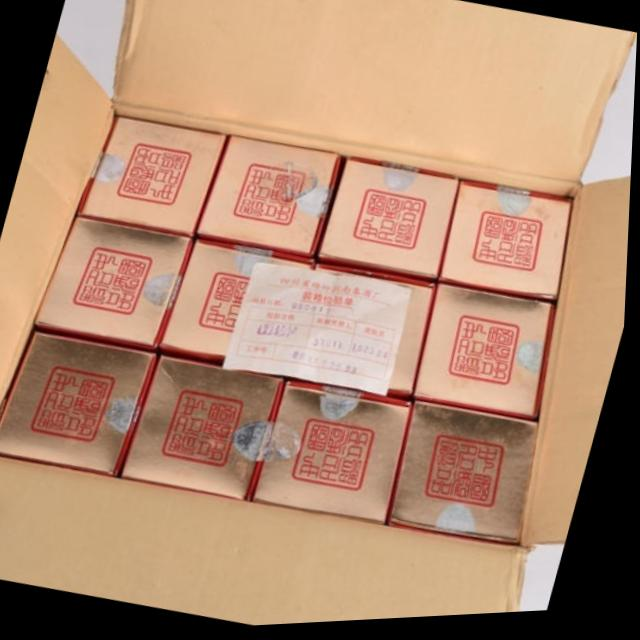box: (0, 0, 637, 628), (0, 330, 161, 479), (124, 357, 287, 504), (254, 382, 417, 529), (36, 216, 195, 353), (394, 405, 544, 550), (416, 287, 558, 427), (160, 239, 314, 367), (78, 115, 229, 239), (317, 159, 463, 287), (198, 136, 343, 262), (440, 182, 575, 308), (318, 266, 440, 402)
